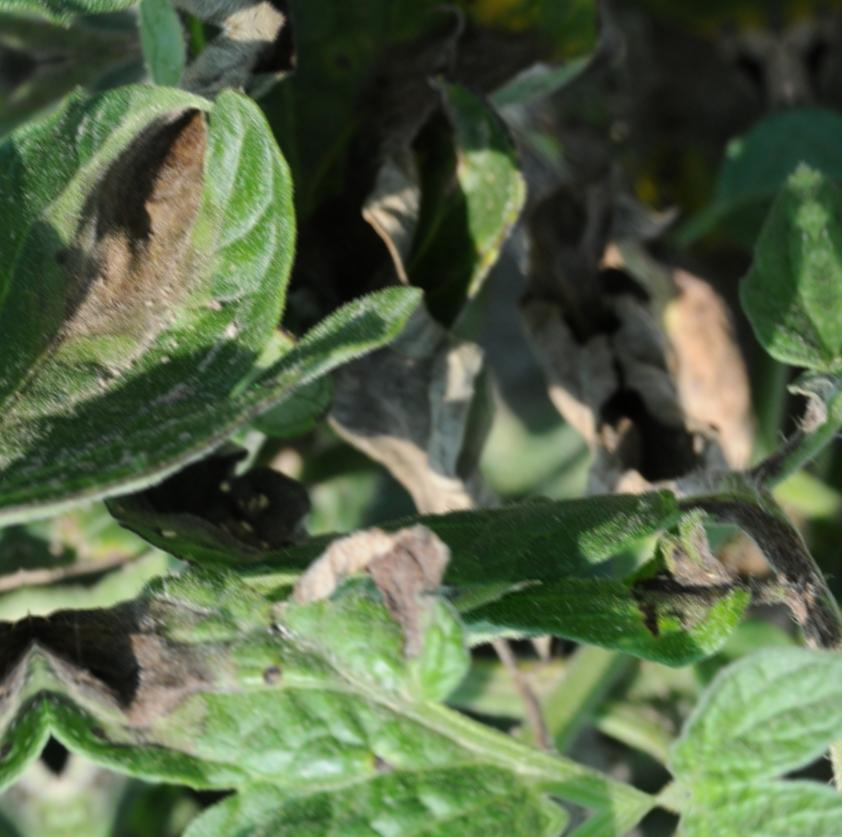Tomato leaf late blight: (18, 469, 566, 837), (0, 15, 381, 530)
